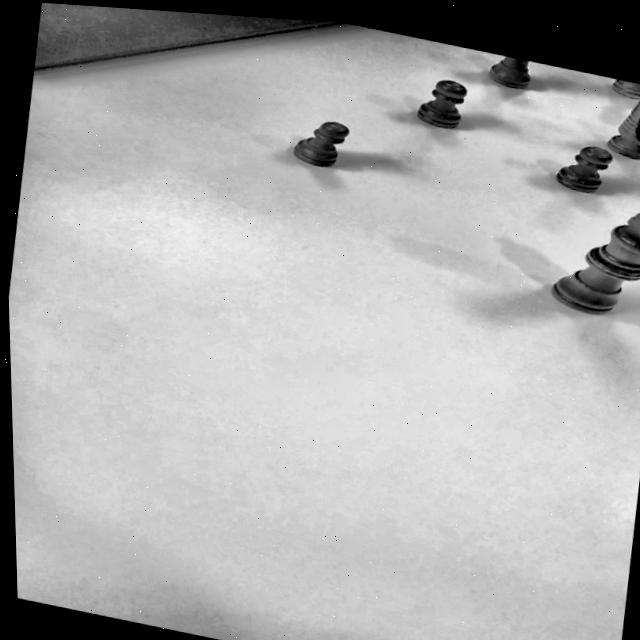black-king: (496, 182, 640, 330)
black-knight: (598, 89, 640, 173)
black-pawn: (274, 104, 375, 182), (394, 68, 484, 143), (537, 133, 626, 200)
